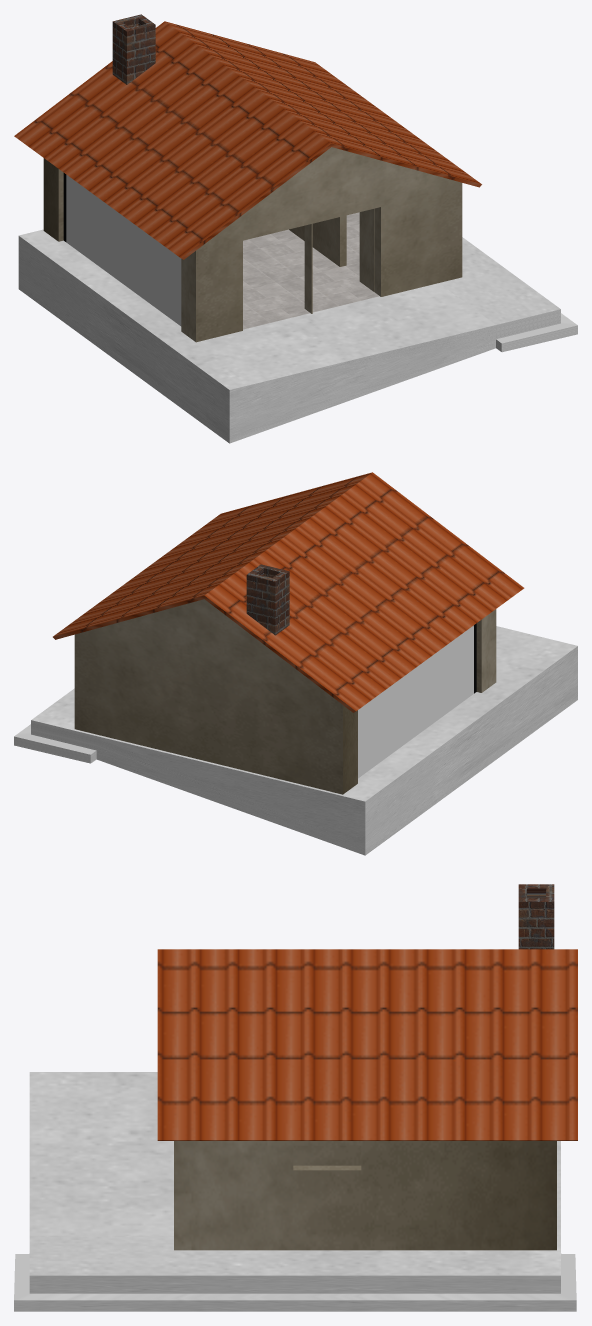
Rendered from Segunda Casa.fbx.
3 views of the same model, one above another, from view 1: azimuth 30°, elevation 25°; view 2: azimuth 150°, elevation 25°; view 3: azimuth 270°, elevation 25° (orthographic). The views are drawn at different scales.
Parts seen in each view (by area): view 1: Techo quincho, Base quincho, Pared quincho, Piso living, Parilla, Piso baño; view 2: Techo quincho, Pared quincho, Base quincho, Parilla; view 3: Techo quincho, Base quincho, Pared quincho, Parilla.
Part boxes in pixels (<box>): Techo quincho: <box>14,21,481,259</box>; Base quincho: <box>18,229,577,443</box>; Pared quincho: <box>43,147,462,342</box>; Piso living: <box>243,229,379,329</box>; Parilla: <box>112,14,155,84</box>; Piso baño: <box>344,212,359,276</box>; Techo quincho: <box>53,472,524,712</box>; Pared quincho: <box>74,599,496,794</box>; Base quincho: <box>14,626,577,855</box>; Parilla: <box>246,564,289,635</box>; Techo quincho: <box>157,949,577,1140</box>; Base quincho: <box>14,1072,576,1311</box>; Pared quincho: <box>174,1141,556,1250</box>; Parilla: <box>518,884,554,949</box>.
Size of the model in its own units: 20.04 by 13.85 by 22.73.
